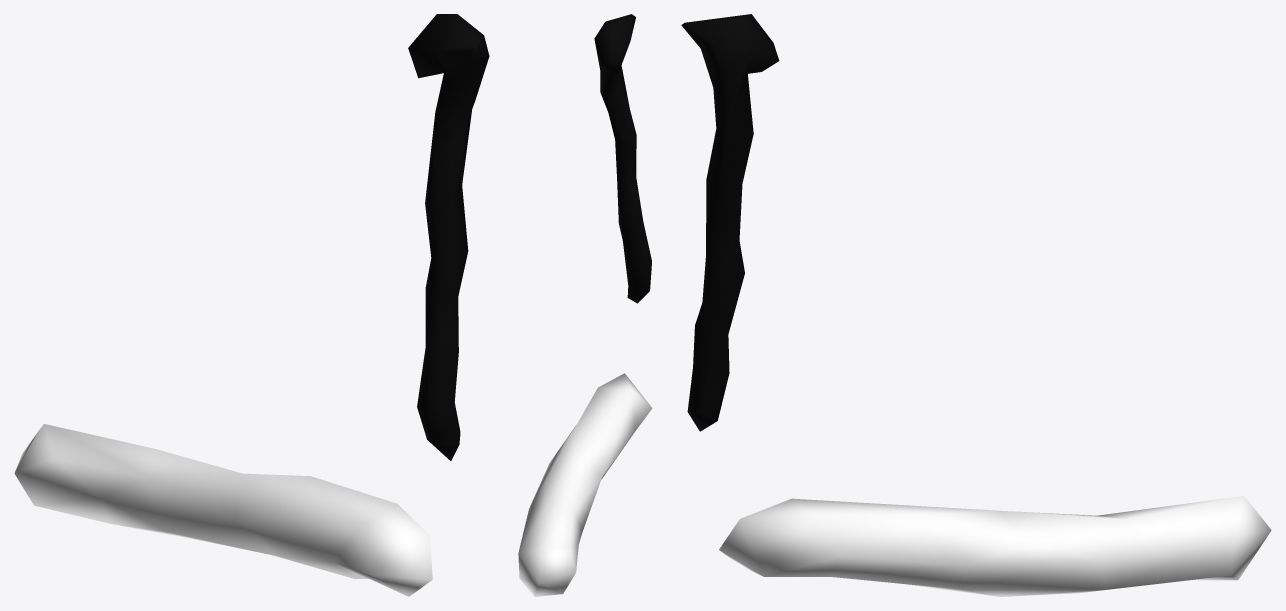
The model's file is cig white.glb.
The picture shows the model from 3 angles, left to right: view 1: azimuth 30°, elevation 25°; view 2: azimuth 150°, elevation 25°; view 3: azimuth 270°, elevation 25°; orthographic projection. The views are drawn at different scales.
Visible parts, largest first — view 1: smoke_cig_white.001; view 2: smoke_cig_white.001; view 3: smoke_cig_white.001.
Boxes of the visible parts, x1,y1,x2,y2 form: smoke_cig_white.001: [14, 14, 489, 596]; smoke_cig_white.001: [518, 14, 652, 596]; smoke_cig_white.001: [681, 14, 1271, 596].
Bounding box in the file's own units: 0.0387 × 0.1051 × 0.0893.
Materials: 2 (2 with a texture image).
